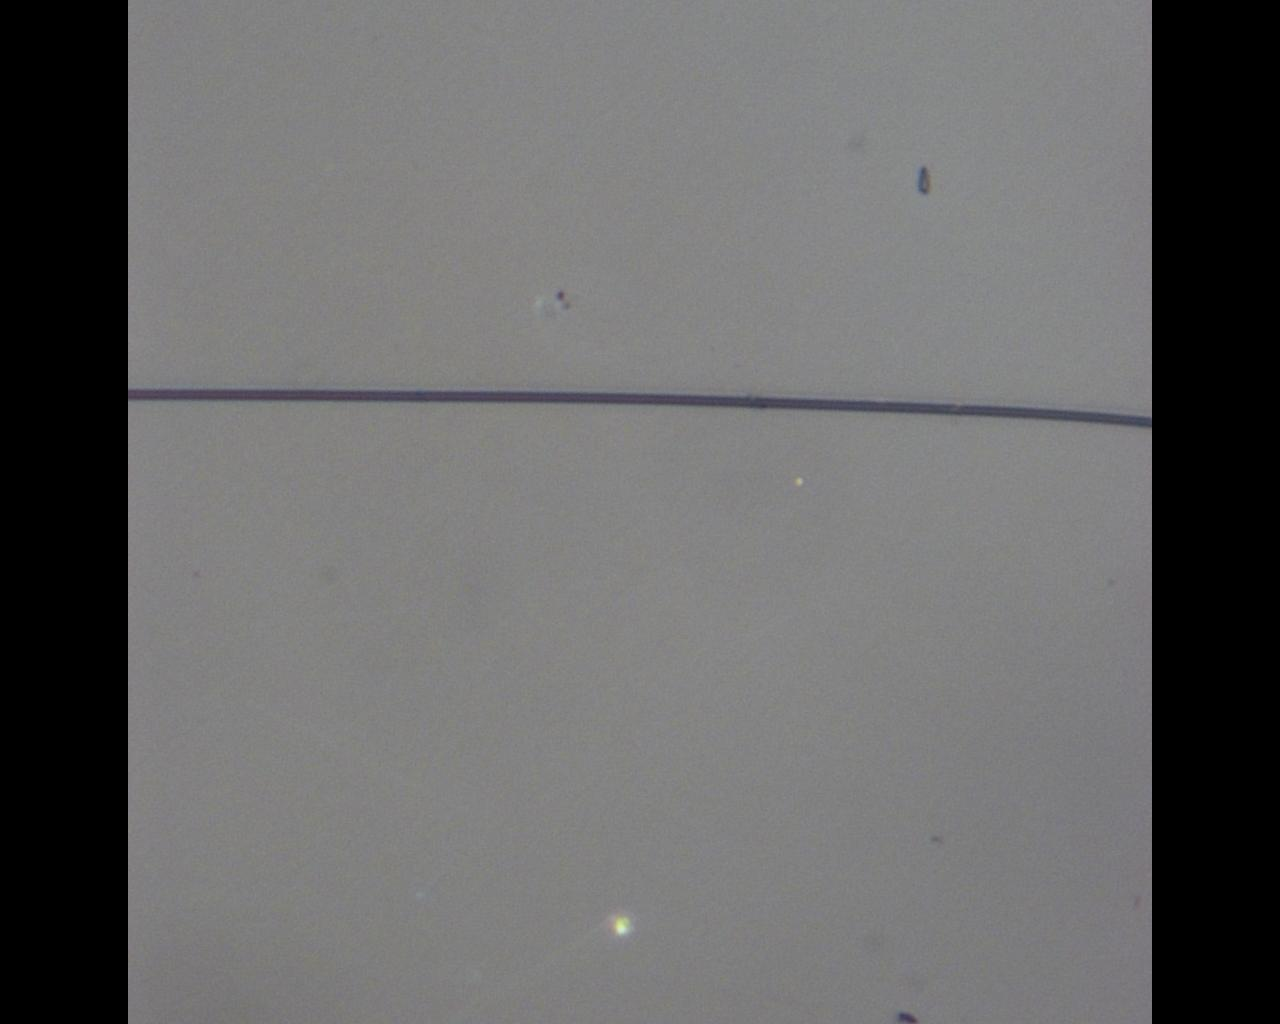fiber: (128, 386, 1152, 427)
